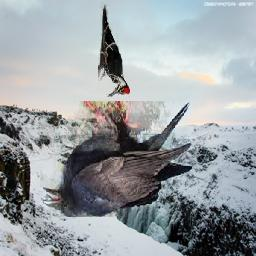Crow: (40, 101, 192, 217)
Woodpecker: (98, 1, 130, 97)
